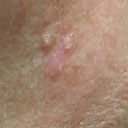Actinic: (37, 27, 78, 66)
